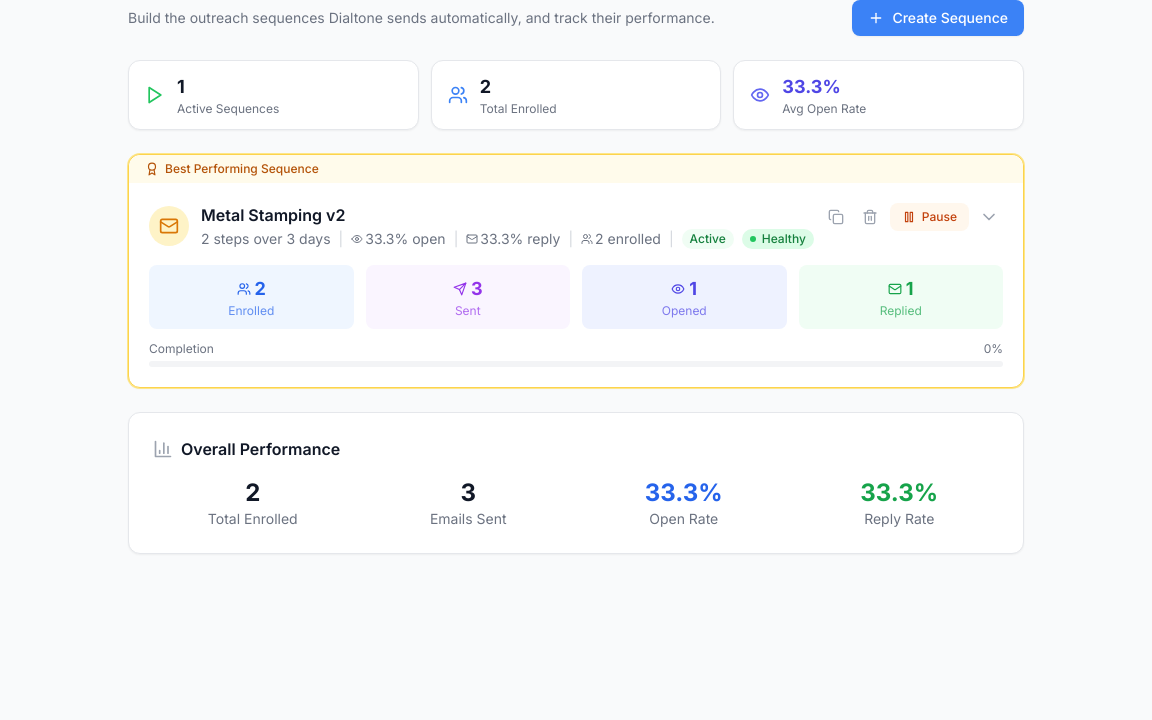
Scenario: Sequence analytics section › shows conversion and per-step funnel once expanded
The image size is (1152, 720).
Click the heading "Metal Stamping v2". click: (273, 215)
box: [201,205,345,225]
(page scrolled)
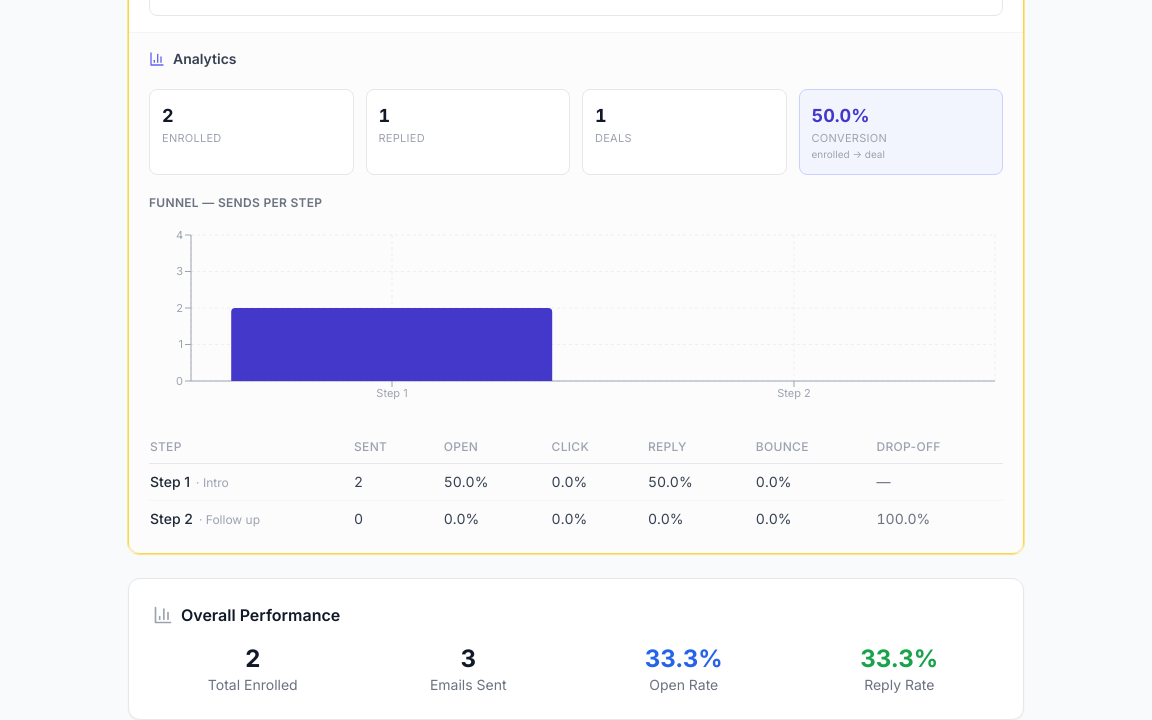
Now the heading "Analytics" is shown, box [173,49,236,69]
Now the text "50.0%" is shown, box [812,105,870,126]
Now the text "Step 1· Intro" is shown, box [149,463,342,500]
